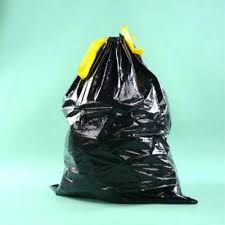Trash: (40, 23, 203, 211)
